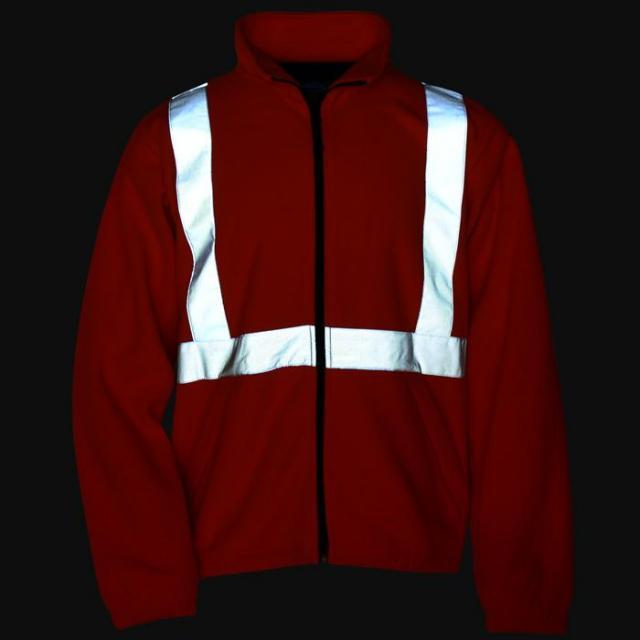reflective_jacket: (46, 12, 621, 636)
